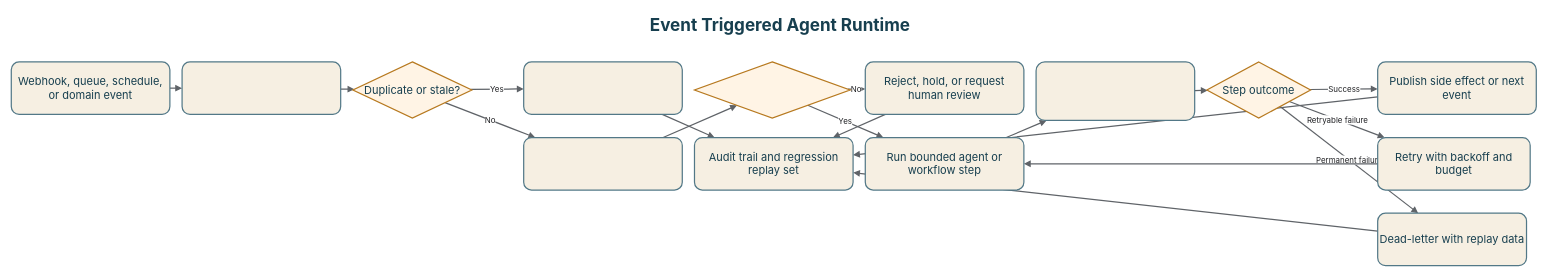
This 1547x276 diagram has some shape labels left out. Each missing label, with the centre of its shape:
"Acknowledge without side effects" belongs at (x=603, y=88).
"Checkpoint result, trace, cost, and error state" belongs at (x=1115, y=91).
"Ingest with event id and idempotency key" belongs at (x=261, y=88).
"Load state, policy, memory, and config" belongs at (x=603, y=163).
"Policy and context sufficient?" belongs at (x=772, y=89).
